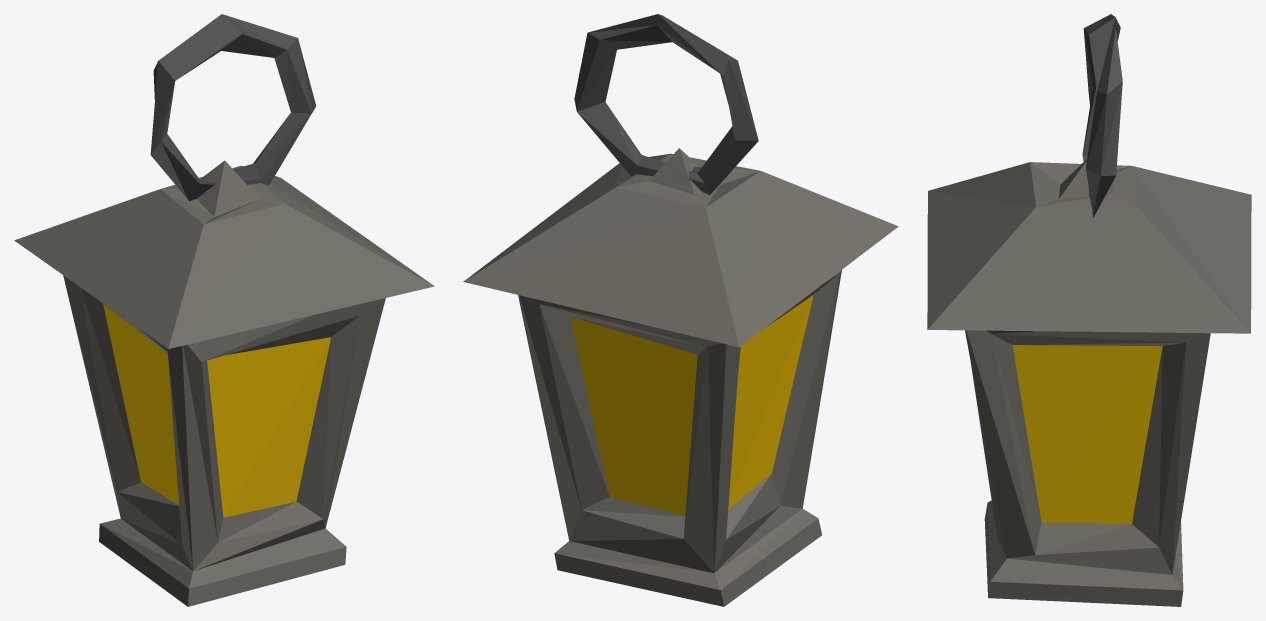
The model's file is RG-Dungeon_Lamp.fbx.
The picture shows the model from 3 angles, left to right: view 1: azimuth 30°, elevation 25°; view 2: azimuth 150°, elevation 25°; view 3: azimuth 270°, elevation 25°; orthographic projection. The views are drawn at different scales.
Visible parts, largest first — view 1: RG-Dungeon_Lamp; view 2: RG-Dungeon_Lamp; view 3: RG-Dungeon_Lamp.
Part boxes in pixels (left/top/right/bottom): RG-Dungeon_Lamp: left=14, top=14, right=434, bottom=606; RG-Dungeon_Lamp: left=463, top=14, right=898, bottom=606; RG-Dungeon_Lamp: left=927, top=14, right=1251, bottom=606.
Bounding box in the file's own units: 1.78 × 3.36 × 1.78.
